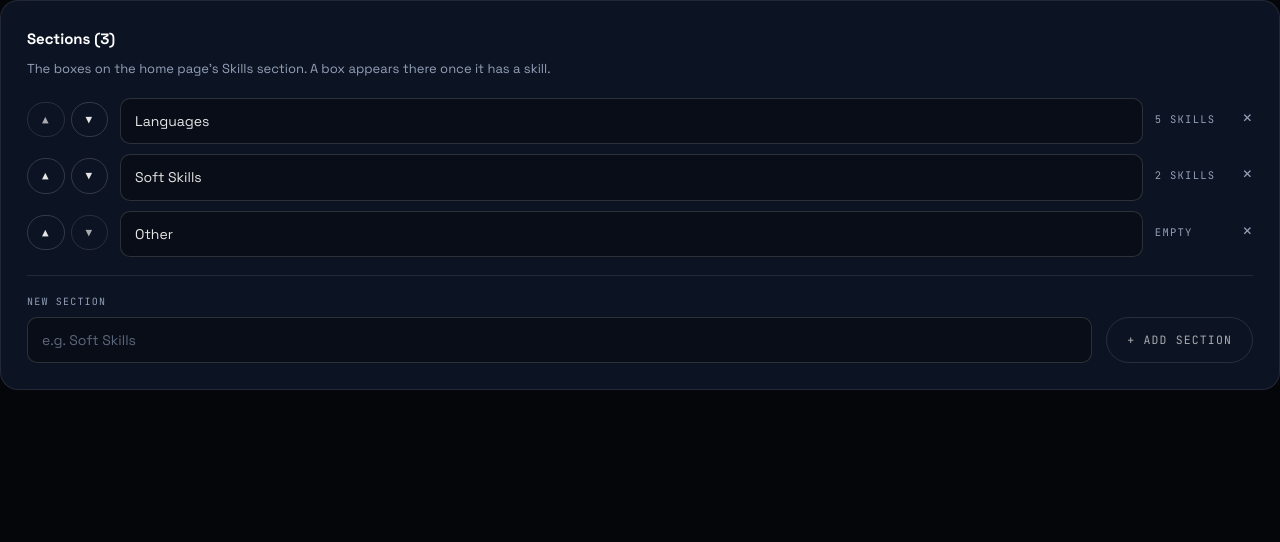
Test: rename and reorder are STAGED › a blank or duplicate name is refused and marked; nothing is sent
Clear the field next to "5 SKILLS". click: [631, 121]
box: [120,98,1143,144]
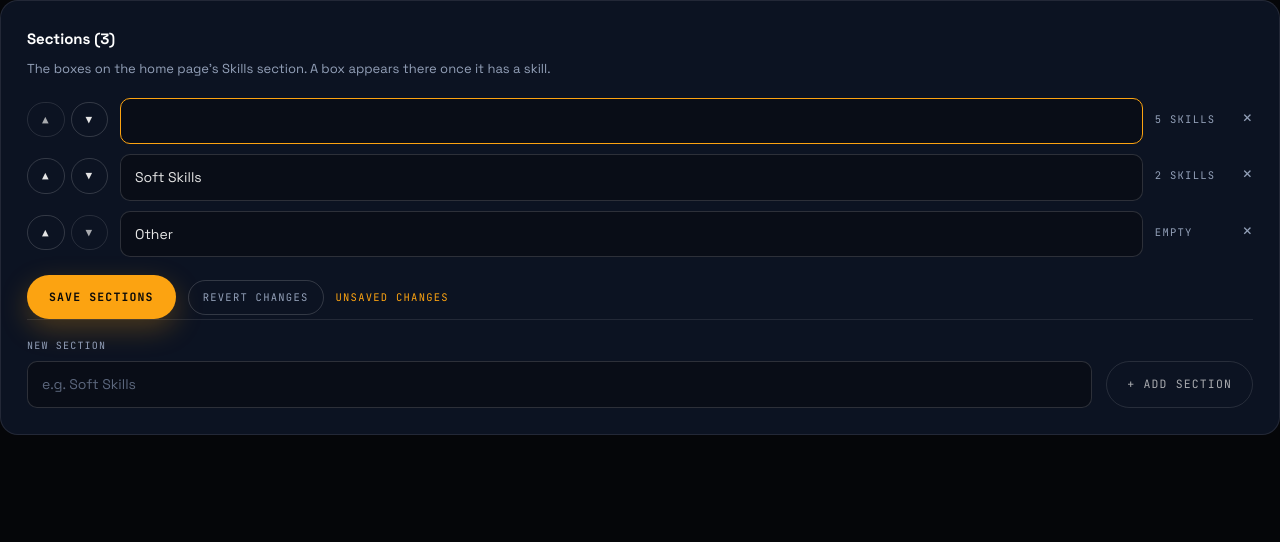
Replace the text in the field next to "EMPTY" with "soft skills". click: [631, 234]
box: [120,211,1143,257]
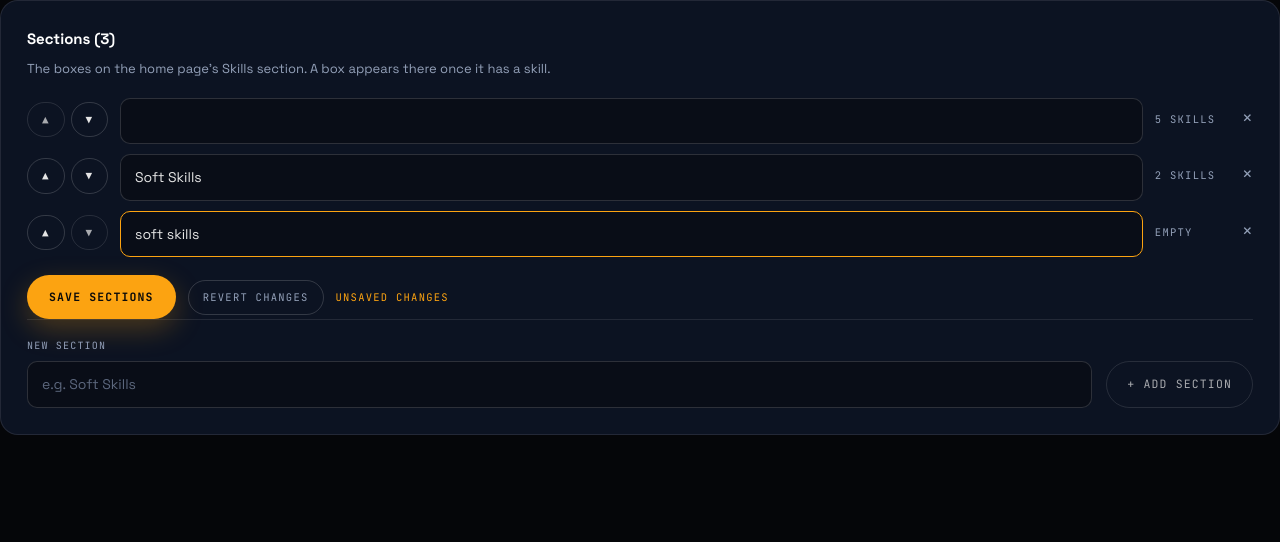
Click the button "SAVE SECTIONS". click: [101, 297]
box: [27,275,176,319]
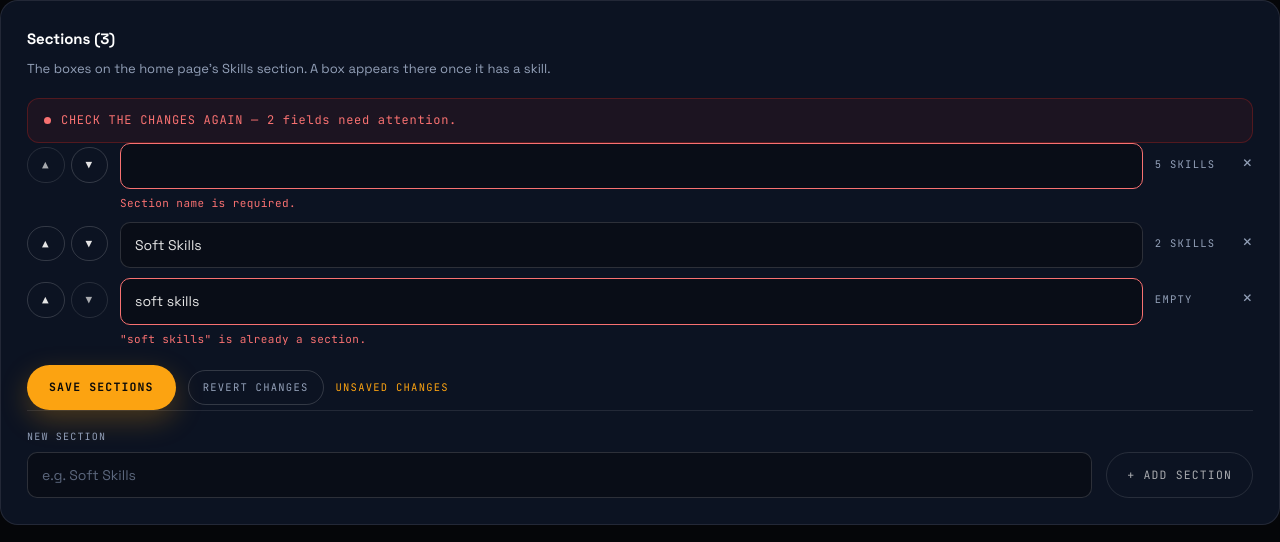
Expected: the text "CHECK THE CHANGES AGAIN — 2 fields need attention." is shown, [61,111,457,130]
